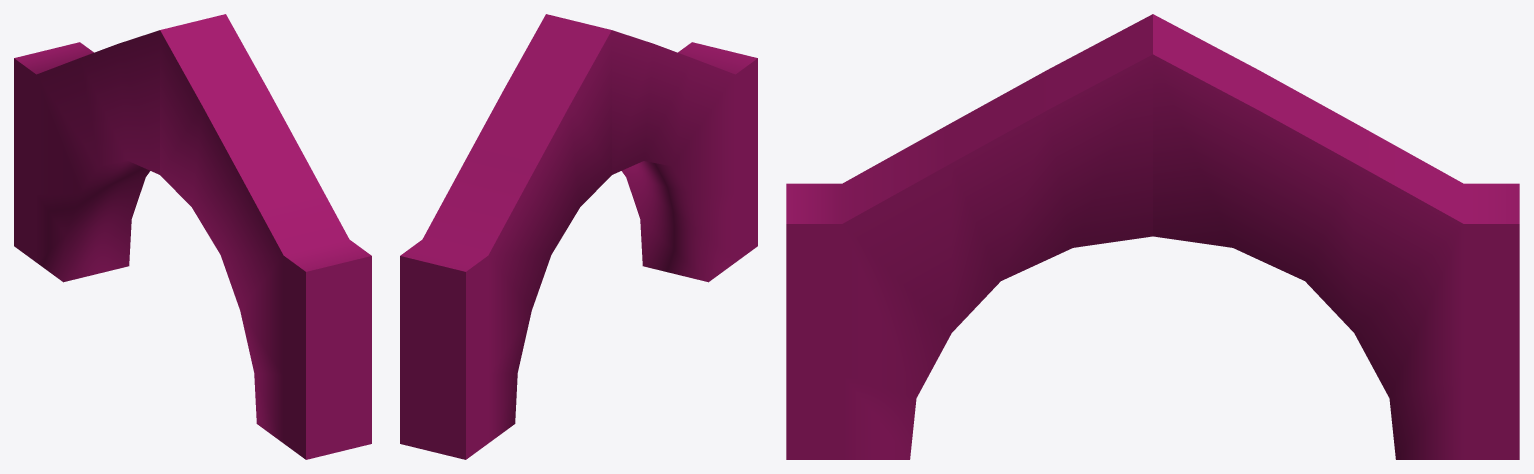
File: Grave_Up_02.fbx
3 renders of one model, left to right at view 1: azimuth 30°, elevation 25°; view 2: azimuth 150°, elevation 25°; view 3: azimuth 270°, elevation 25°, orthographic. The views are drawn at different scales.
Parts seen in each view (by area): view 1: Grave_Up_02; view 2: Grave_Up_02; view 3: Grave_Up_02.
Part boxes in pixels (x1=…): Grave_Up_02: x1=14, y1=14, x2=371, y2=459; Grave_Up_02: x1=400, y1=14, x2=757, y2=459; Grave_Up_02: x1=786, y1=14, x2=1519, y2=459.
Bounding box in the file's own units: 1.31 × 6.13 × 10.05.
